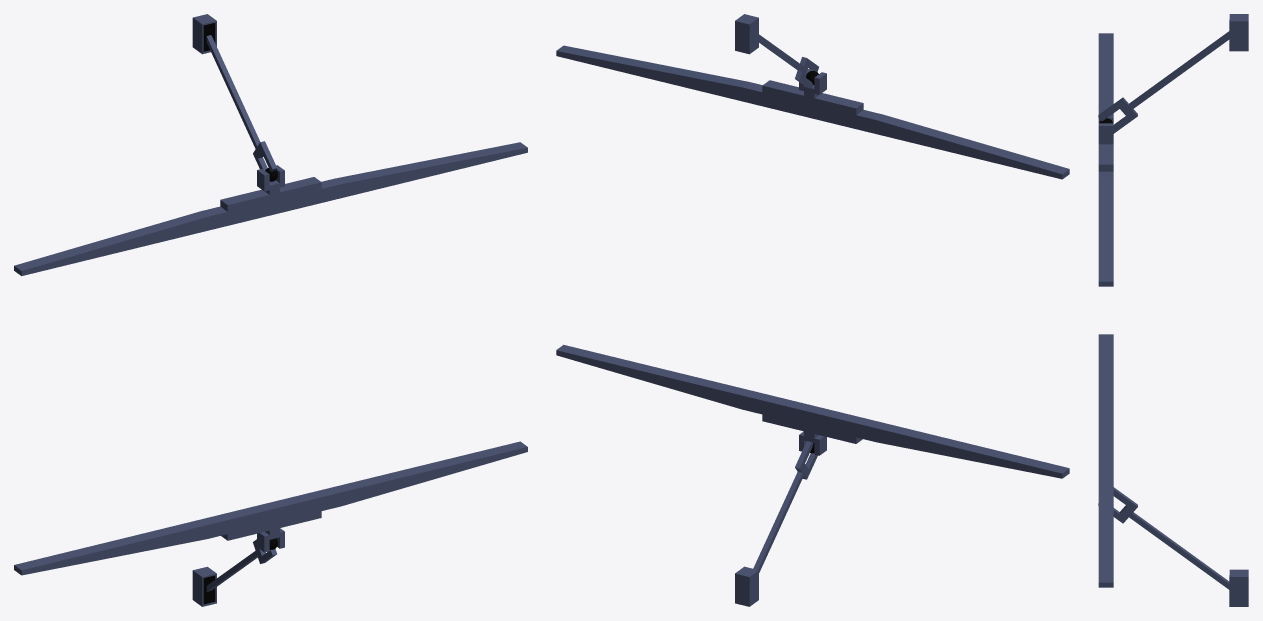
File: PantallaPuzleGrafos.fbx
The picture shows the model from 3 angles, left to right: view 1: azimuth 30°, elevation 25°; view 2: azimuth 150°, elevation 25°; view 3: azimuth 270°, elevation 25°; orthographic projection.
Parts seen in each view (by area): view 1: Cube, Cube.001, Cube.002; view 2: Cube, Cube.001, Cube.002; view 3: Cube, Cube.001, Cube.002.
Part boxes in pixels (x1,y1,x2,y2): Cube: [14, 142, 527, 575]; Cube.001: [206, 35, 276, 591]; Cube.002: [192, 14, 216, 606]; Cube: [556, 45, 1069, 478]; Cube.001: [753, 34, 818, 572]; Cube.002: [735, 14, 758, 606]; Cube: [1098, 33, 1113, 587]; Cube.001: [1098, 31, 1229, 589]; Cube.002: [1229, 14, 1248, 606].
Size of the model in its own units: 359 by 395 by 91.88.
